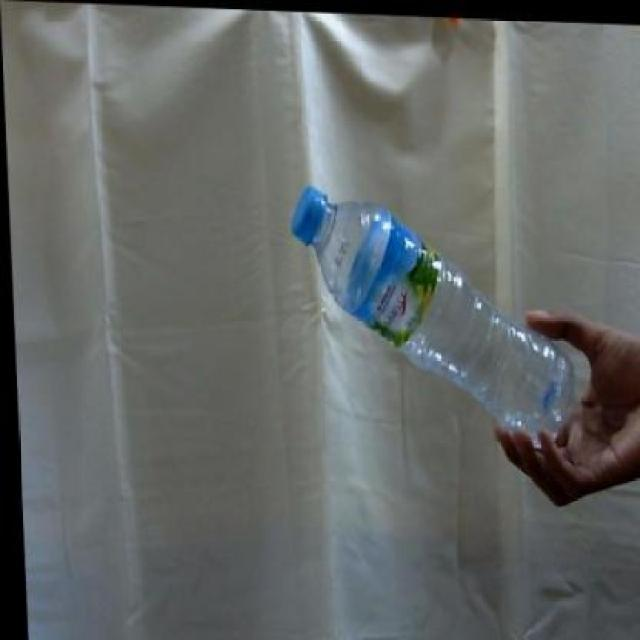Plastic: (288, 178, 582, 455)
